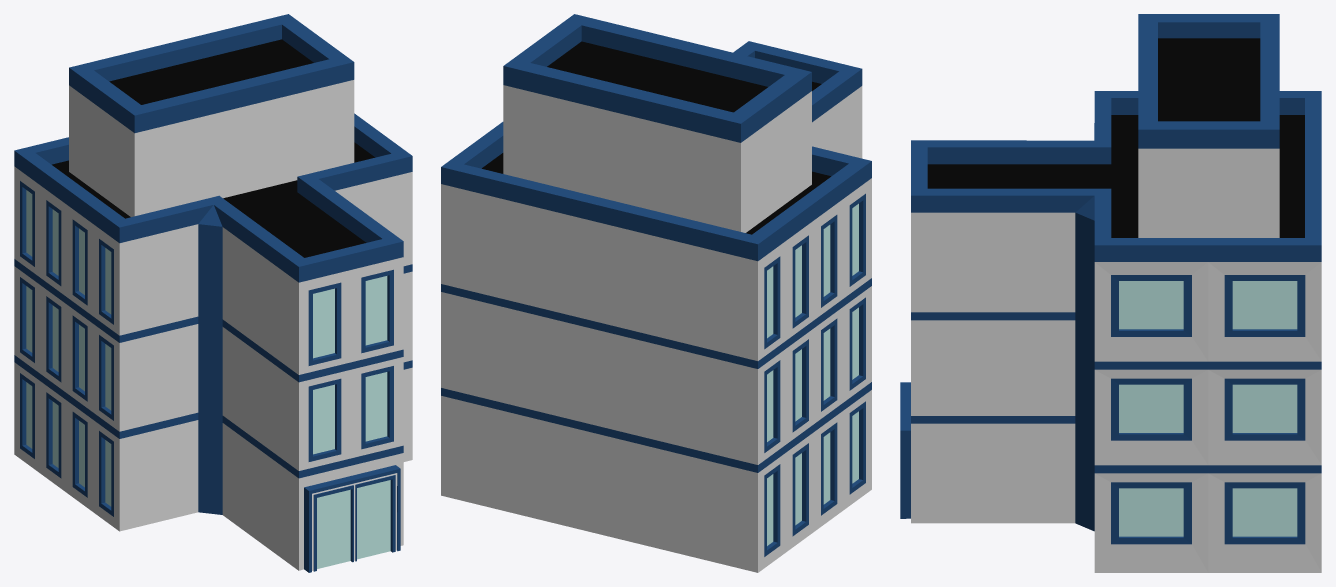
The model's file is BlockOfFlats4.fbx.
3 views of the same model, side by side, from view 1: azimuth 30°, elevation 25°; view 2: azimuth 150°, elevation 25°; view 3: azimuth 270°, elevation 25° (orthographic). The views are drawn at different scales.
Parts seen in each view (by area): view 1: BlockOfFlats5; view 2: BlockOfFlats5; view 3: BlockOfFlats5.
Boxes of the visible parts, box(x1,y1,x2,y2) form: BlockOfFlats5: box(14, 14, 412, 572); BlockOfFlats5: box(441, 14, 871, 572); BlockOfFlats5: box(900, 14, 1321, 572).
Bounding box in the file's own units: 4830 × 6178 × 5577.
